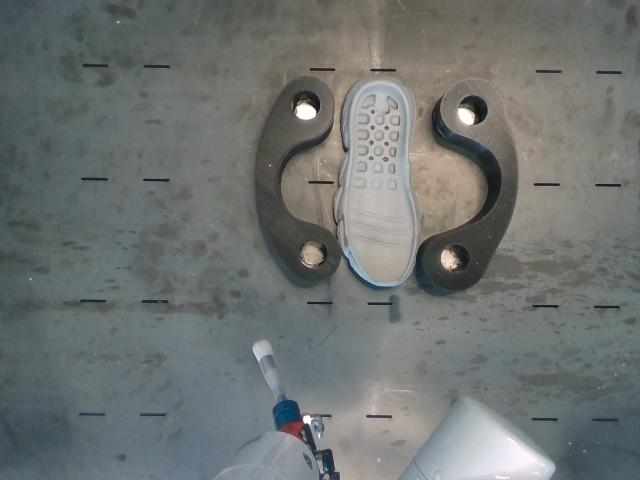shoes: (347, 84, 416, 284)
